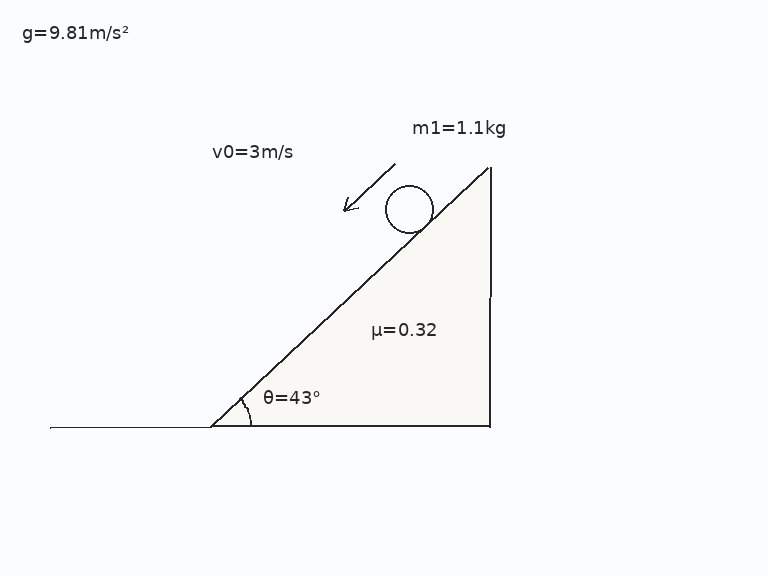ball: (383, 183, 435, 235)
ramp: (209, 166, 490, 428)
